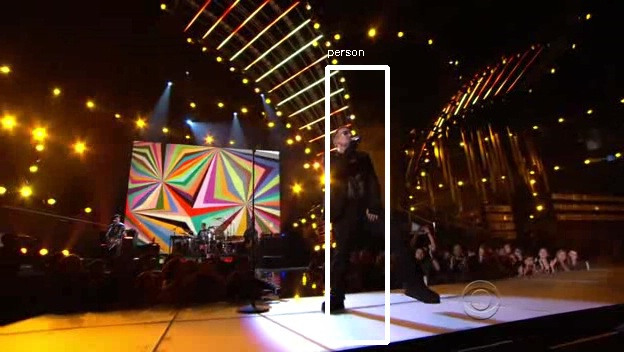person: (317, 125, 384, 241), (314, 125, 381, 241), (320, 125, 387, 241), (317, 122, 384, 238), (317, 128, 384, 244)
target_negative: (77, 90, 252, 232), (244, 187, 409, 287), (463, 236, 509, 317), (272, 131, 524, 140), (466, 330, 534, 340), (378, 344, 543, 345)
